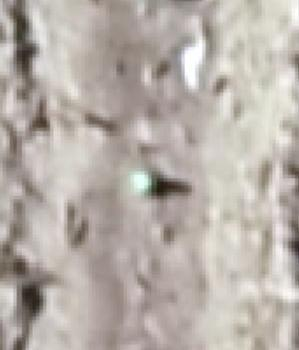cotton: (132, 170, 156, 193)
